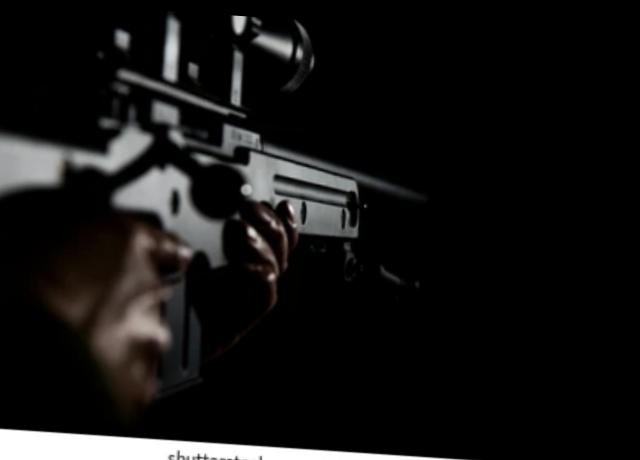other: (0, 88, 272, 411)
